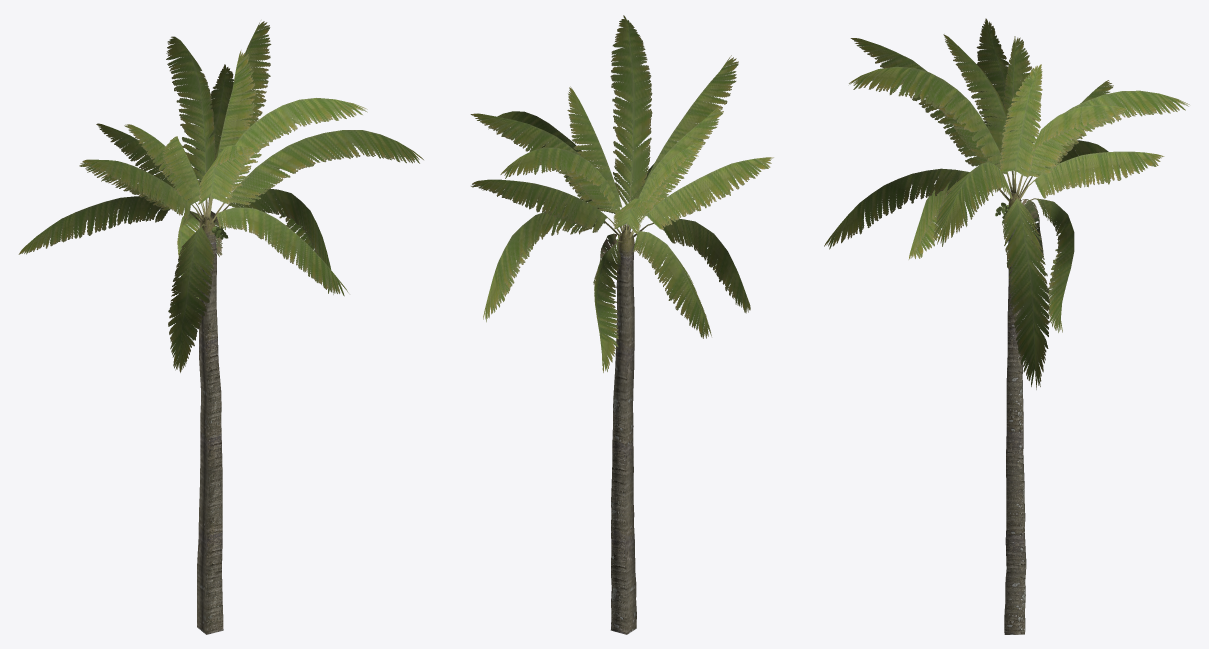
File: CocosNucifera.glb
The picture shows the model from 3 angles, left to right: view 1: azimuth 30°, elevation 25°; view 2: azimuth 150°, elevation 25°; view 3: azimuth 270°, elevation 25°; orthographic projection. The views are drawn at different scales.
Visible parts, largest first — view 1: Coconut_Palm__Realistic_LOD3; view 2: Coconut_Palm__Realistic_LOD3; view 3: Coconut_Palm__Realistic_LOD3.
Part boxes in pixels (x1,y1,x2,y2): Coconut_Palm__Realistic_LOD3: (18, 21, 423, 634); Coconut_Palm__Realistic_LOD3: (470, 15, 773, 634); Coconut_Palm__Realistic_LOD3: (824, 18, 1189, 634).
Bounding box in the file's own units: 13.72 × 22.19 × 12.66.
Materials: 1 (1 with a texture image).
